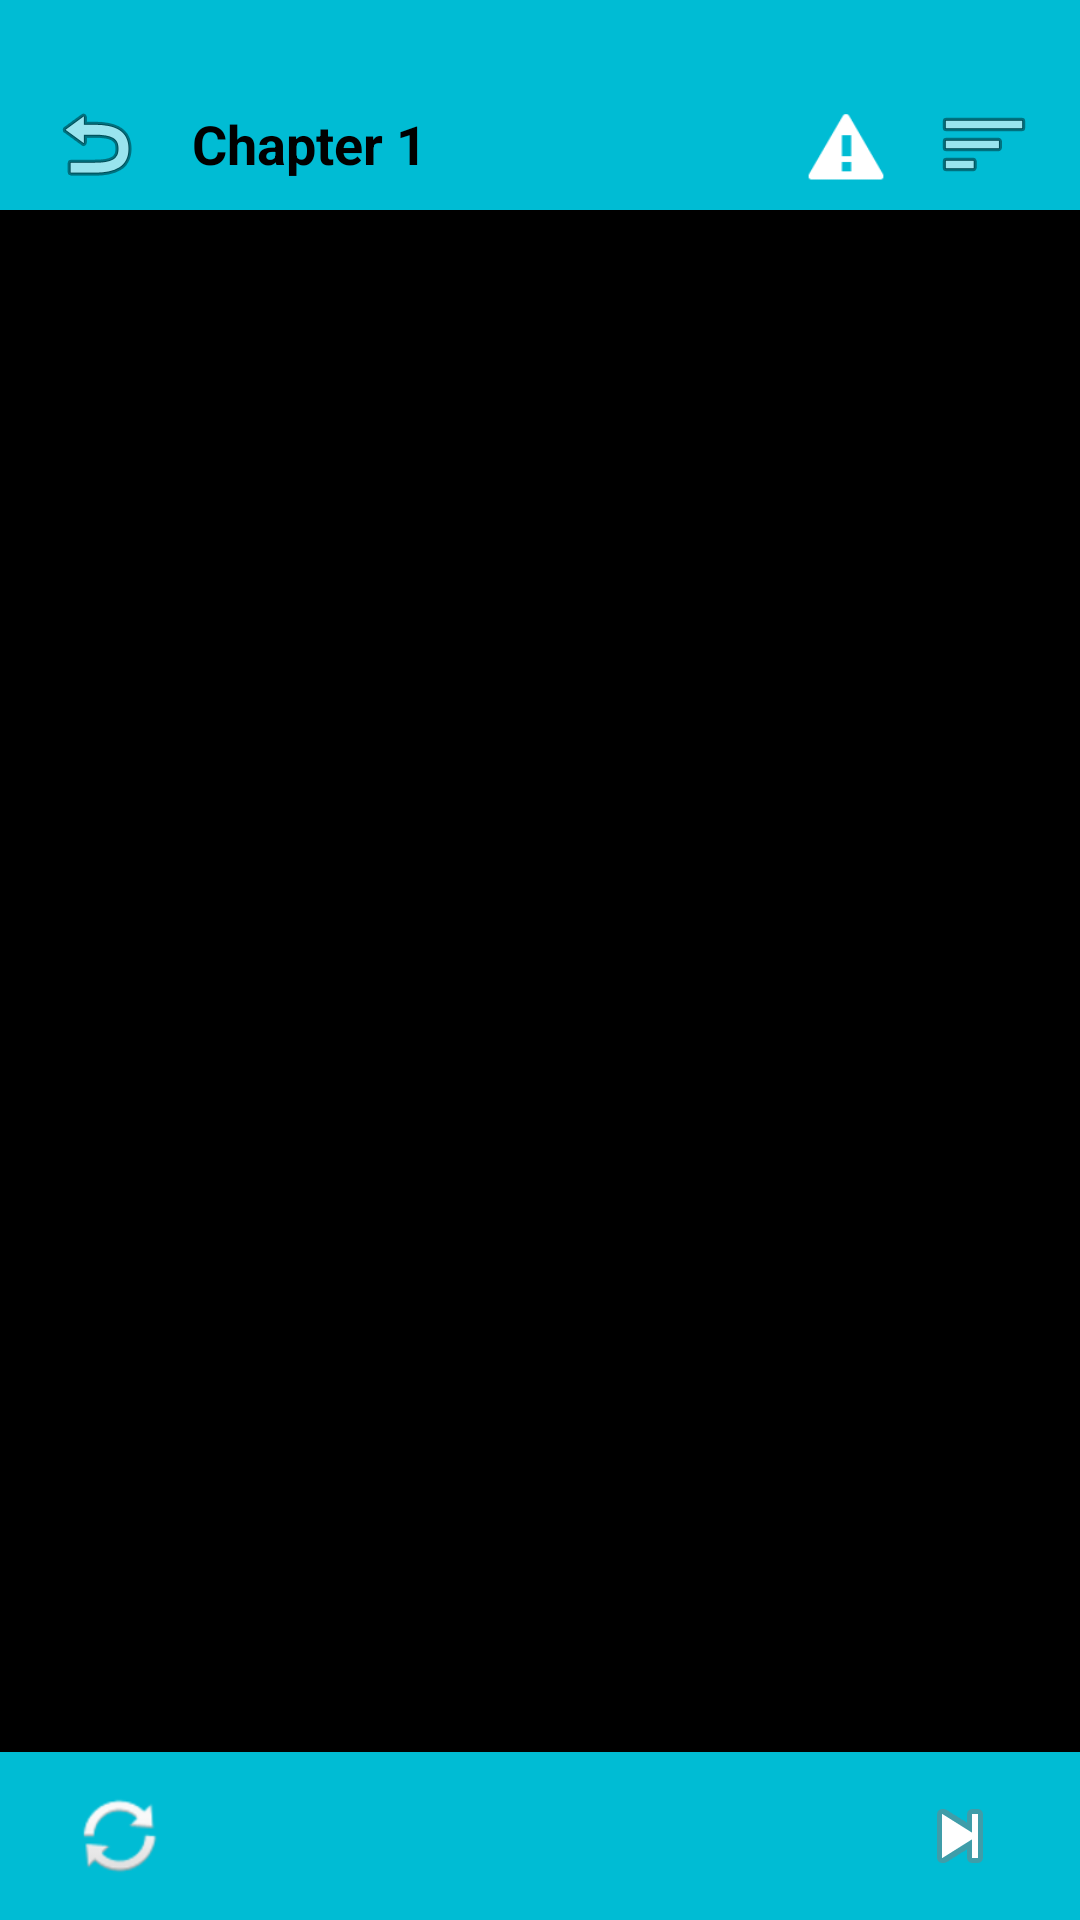

Named icons in this screenshot (1080 × 1920) and their centers, point (x, y):
error: point (846, 147)
next: point (960, 1836)
popup sync: point (120, 1836)
revert: point (97, 144)
sort by size: point (984, 144)
